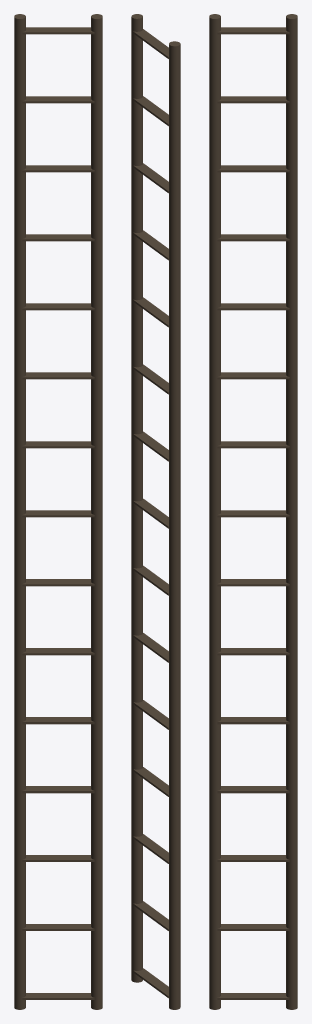
Rendered from SM_siege_ladder.fbx.
The picture shows the model from 3 angles, left to right: view 1: azimuth 90°, elevation 25°; view 2: azimuth 210°, elevation 25°; view 3: azimuth 270°, elevation 25°; orthographic projection. The views are drawn at different scales.
Parts seen in each view (by area): view 1: siege_ladder; view 2: siege_ladder; view 3: siege_ladder.
Part boxes in pixels (x1,y1,x2,y2): siege_ladder: (14,14,102,1009); siege_ladder: (131,14,180,1009); siege_ladder: (209,14,297,1009).
Bounding box in the file's own units: 10 × 910 × 73.75.
